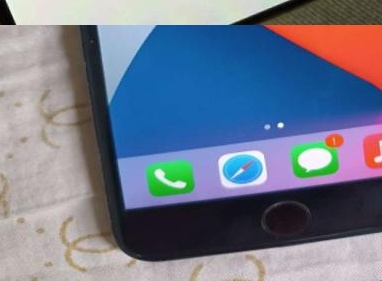scratch: (85, 31, 100, 48)
